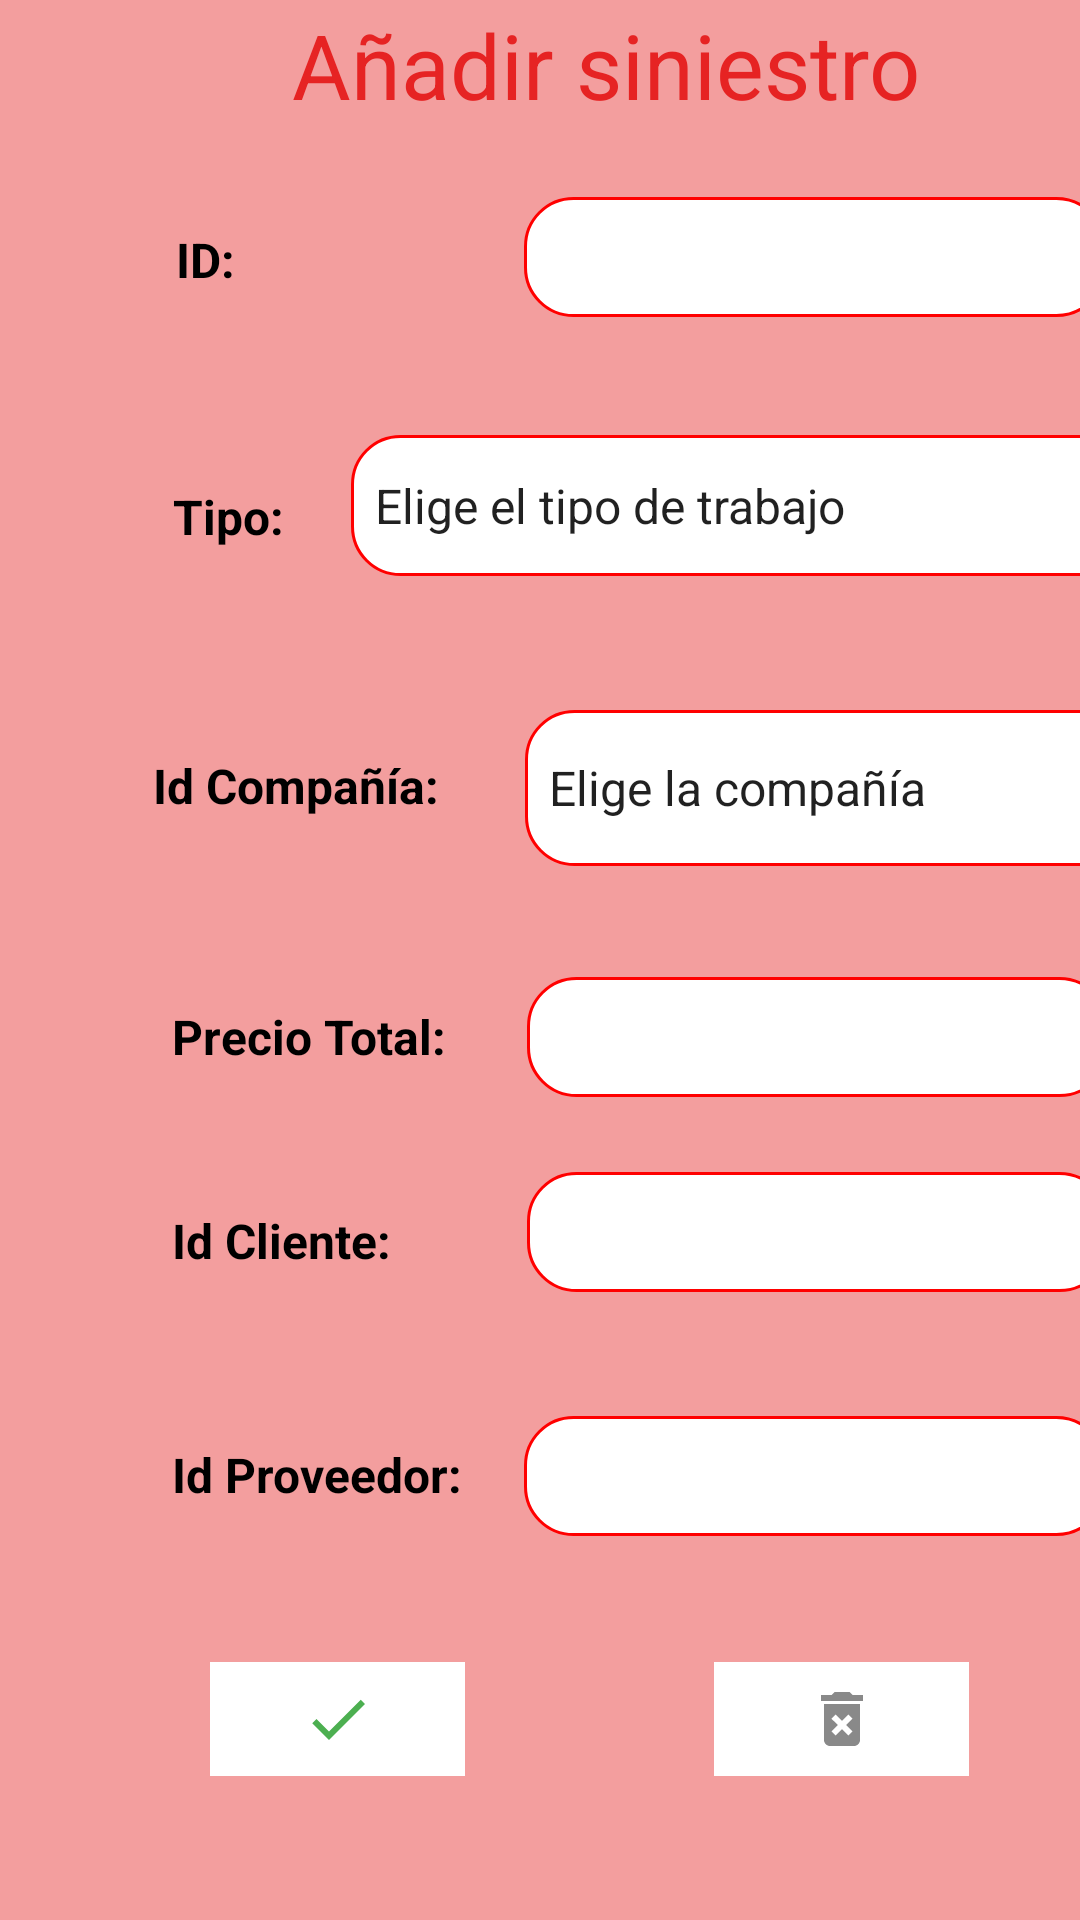

Locate icon controls on the screen. Image size 1080 × 1920, boxes as (x1=x1, y1=y1, x2=x2, y2=y2).
check: (x1=210, y1=1662, x2=465, y2=1776)
delete: (x1=714, y1=1662, x2=969, y2=1776)
